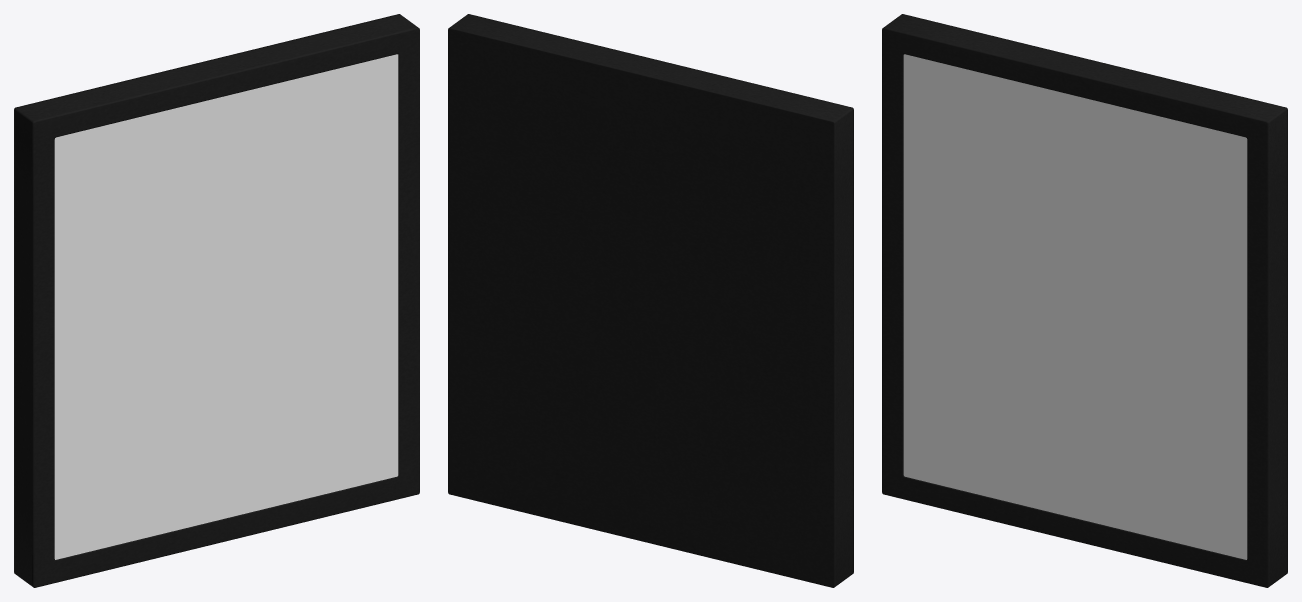
File: Wall_Mounted_indoor_digital_screen.fbx
3 views of the same model, side by side, from view 1: azimuth 30°, elevation 25°; view 2: azimuth 150°, elevation 25°; view 3: azimuth 330°, elevation 25° (orthographic).
Visible parts, largest first — view 1: Wall_Mounted_indoor_digital_screen_Ad001, Wall_Mounted_indoor_digital_screen_Frame; view 2: Wall_Mounted_indoor_digital_screen_Frame; view 3: Wall_Mounted_indoor_digital_screen_Ad001, Wall_Mounted_indoor_digital_screen_Frame.
Boxes of the visible parts, x1=… form: Wall_Mounted_indoor_digital_screen_Ad001: x1=54, y1=54, x2=398, y2=559; Wall_Mounted_indoor_digital_screen_Frame: x1=14, y1=14, x2=419, y2=587; Wall_Mounted_indoor_digital_screen_Frame: x1=448, y1=14, x2=853, y2=587; Wall_Mounted_indoor_digital_screen_Ad001: x1=903, y1=54, x2=1247, y2=559; Wall_Mounted_indoor_digital_screen_Frame: x1=882, y1=14, x2=1287, y2=587.
Bounding box in the file's own units: 28.54 × 32.91 × 2.5.
2 materials, 2 textured.
